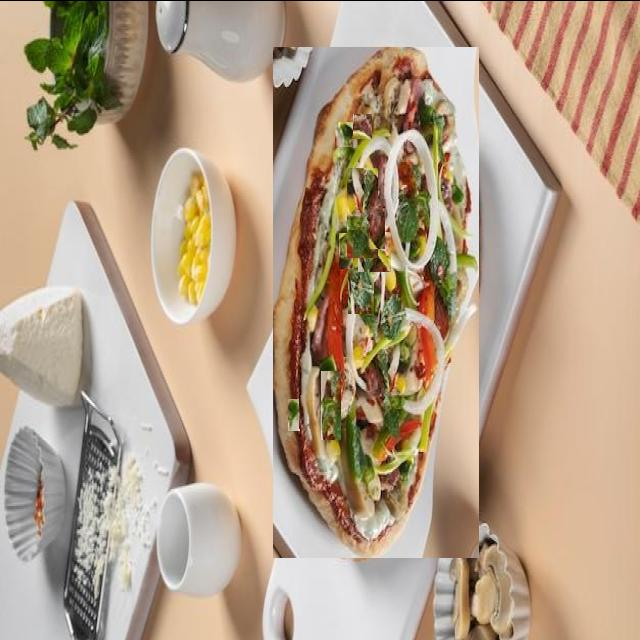basil: (347, 167, 378, 257), (295, 280, 325, 364), (376, 122, 406, 198), (307, 442, 332, 513), (321, 370, 341, 439), (358, 231, 391, 271), (331, 360, 356, 410), (348, 265, 374, 313), (339, 232, 353, 268), (335, 121, 353, 146), (288, 398, 300, 430)
pepperoni: (361, 381, 387, 451), (370, 205, 385, 248), (353, 113, 372, 138), (300, 393, 312, 428)
pizza: (273, 46, 479, 557)
